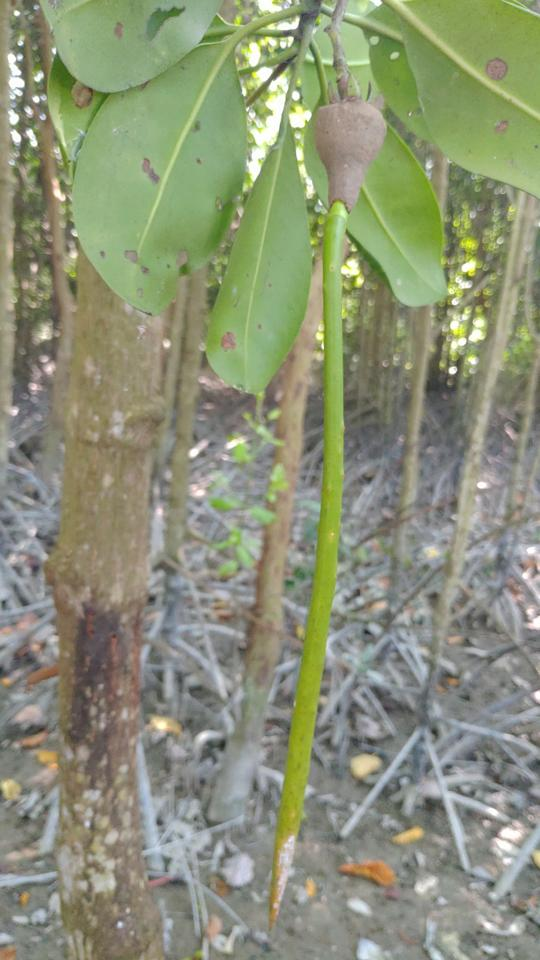setengah matang: (254, 67, 396, 949)
